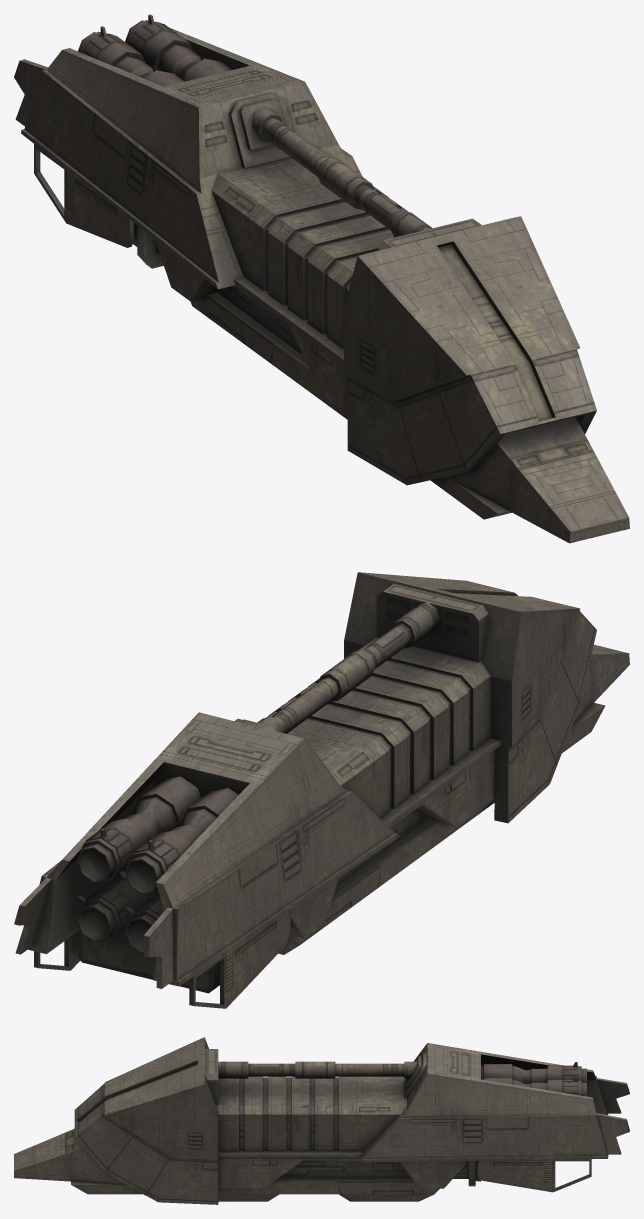
The model's file is Pv_ActionVI.fbx.
3 renders of one model, top to bottom at view 1: azimuth 30°, elevation 25°; view 2: azimuth 150°, elevation 25°; view 3: azimuth 270°, elevation 25°, orthographic. The views are drawn at different scales.
Visible parts, largest first — view 1: ActionVI; view 2: ActionVI; view 3: ActionVI.
Boxes of the visible parts, bbox=[...] form: ActionVI: bbox=[14, 14, 629, 543]; ActionVI: bbox=[14, 572, 629, 1008]; ActionVI: bbox=[14, 1037, 629, 1204].
Bounding box in the file's own units: 2242 × 2697 × 11068.
